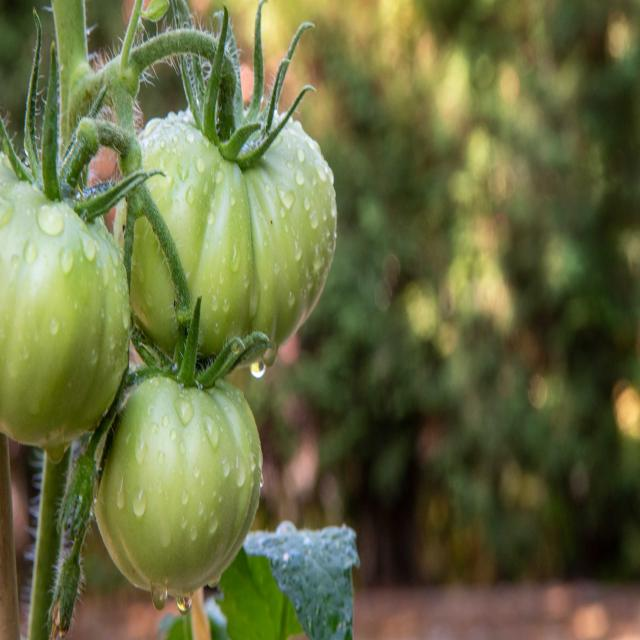unripe tomato: (114, 64, 360, 356), (0, 144, 138, 462), (79, 358, 259, 582)
